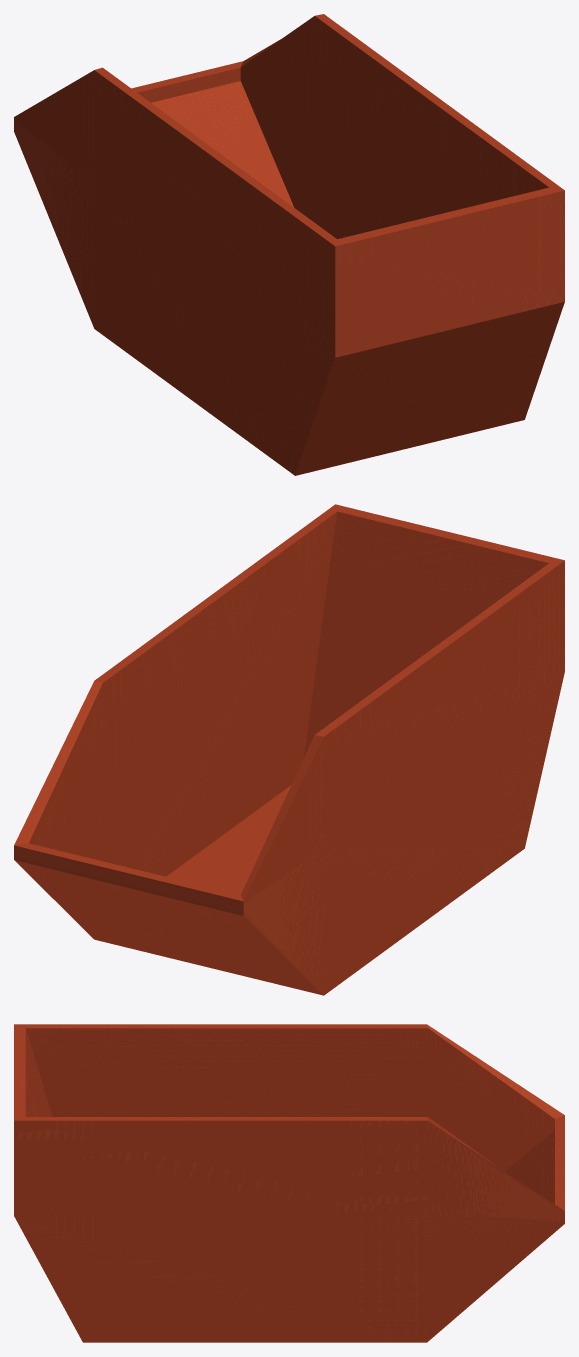
Rendered from container-rubble-red.glb.
3 views of the same model, one above another, from view 1: azimuth 30°, elevation 25°; view 2: azimuth 150°, elevation 25°; view 3: azimuth 270°, elevation 25° (orthographic). The views are drawn at different scales.
Parts seen in each view (by area): view 1: Container Red; view 2: Container Red; view 3: Container Red.
Part boxes in pixels (bbox=[...]): Container Red: bbox=[14, 14, 564, 475]; Container Red: bbox=[14, 504, 564, 995]; Container Red: bbox=[14, 1024, 564, 1342].
Size of the model in its own units: 1.65 by 1.78 by 4.
1 material, 1 textured.
